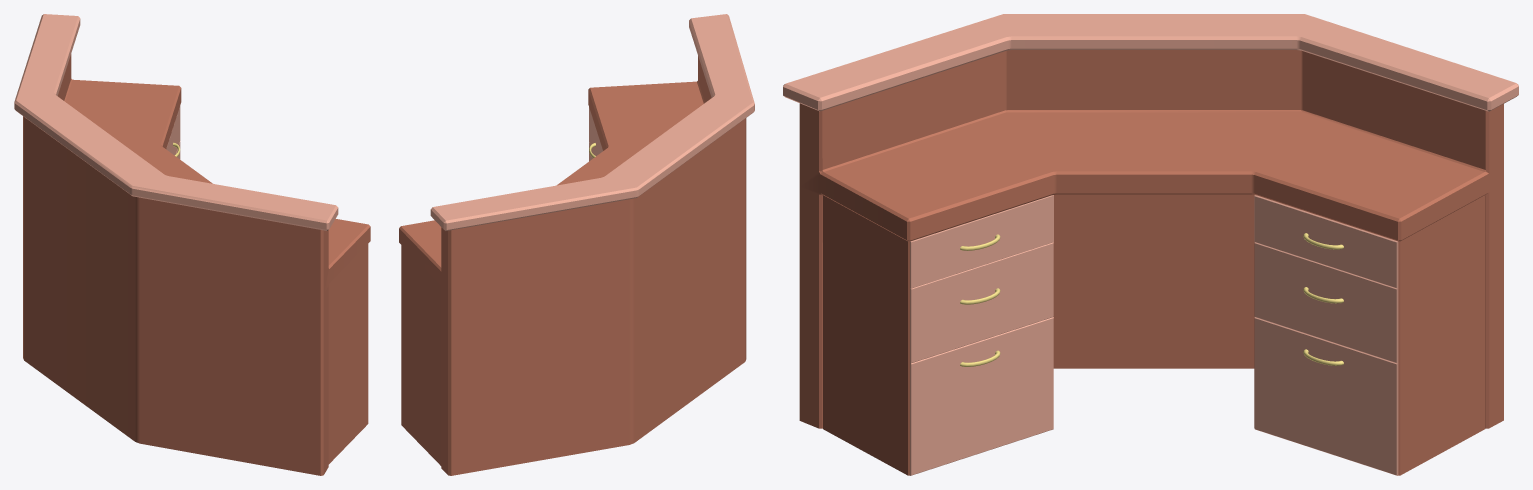
File: FrontDesk.fbx
3 renders of one model, left to right at view 1: azimuth 30°, elevation 25°; view 2: azimuth 150°, elevation 25°; view 3: azimuth 270°, elevation 25°, orthographic. The views are drawn at different scales.
Parts seen in each view (by area): view 1: FrontDesk; view 2: FrontDesk; view 3: FrontDesk.
Part boxes in pixels (<box>): FrontDesk: <box>14,14,370,475</box>; FrontDesk: <box>399,14,754,475</box>; FrontDesk: <box>783,14,1518,475</box>.
Bounding box in the file's own units: 340 × 416 × 826.
